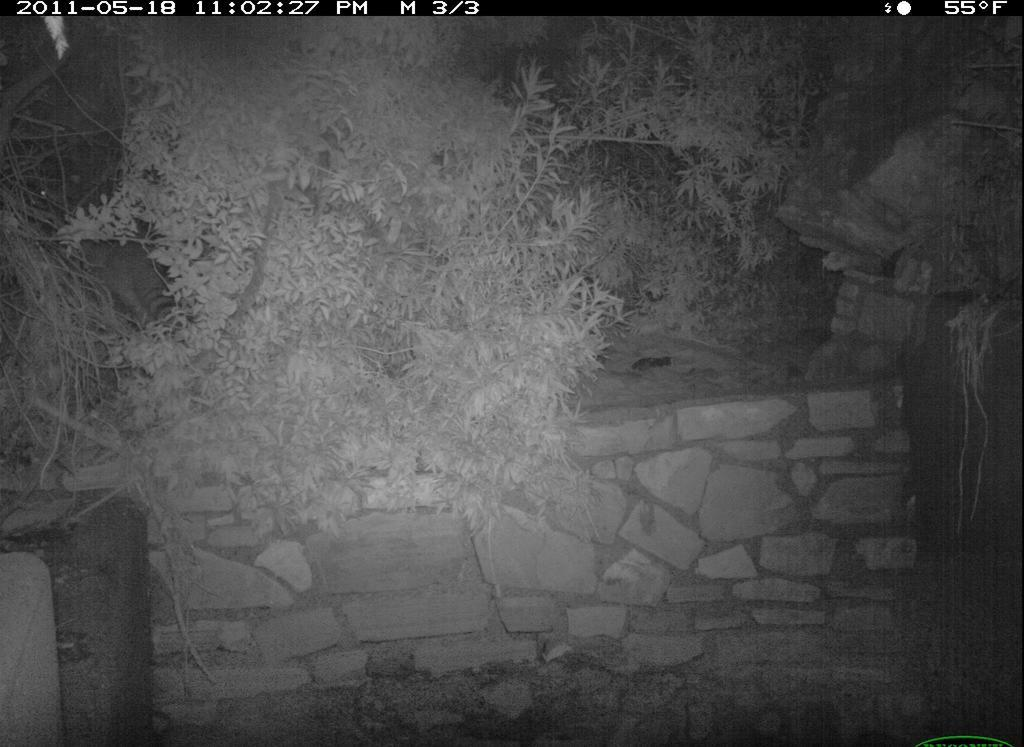raccoon: (45, 180, 228, 347)
